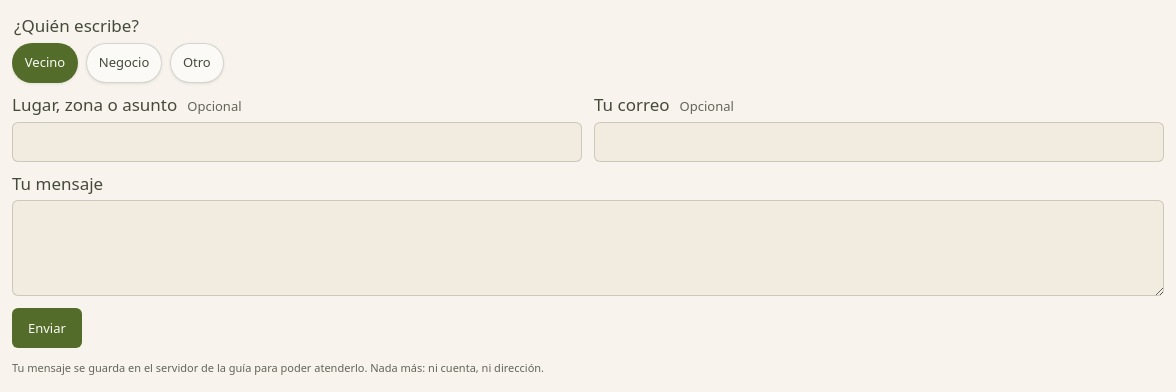
Test: SuggestForm › si el servidor falla, lo dice y no finge que se envió
Type "Hola" into the text box labelled "Tu mensaje" at (588, 248), box [12,200,1164,296]
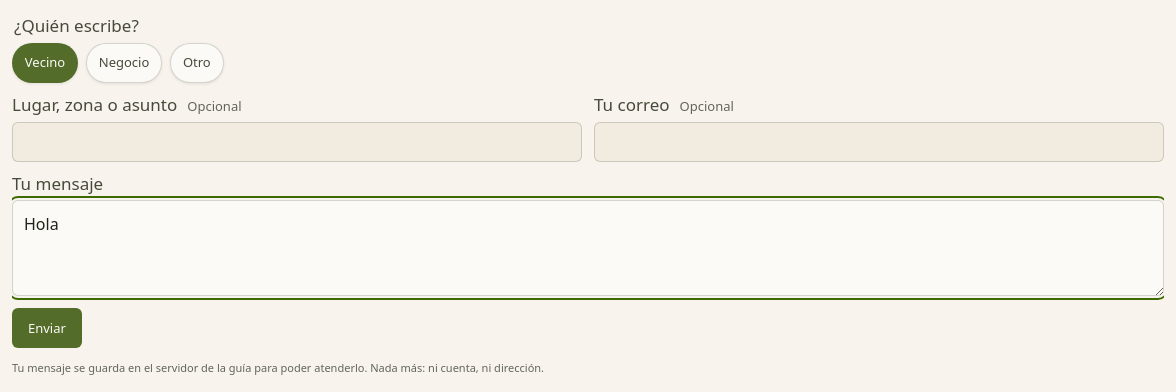
Click the button "Enviar" at (47, 328), box [12,308,82,348]
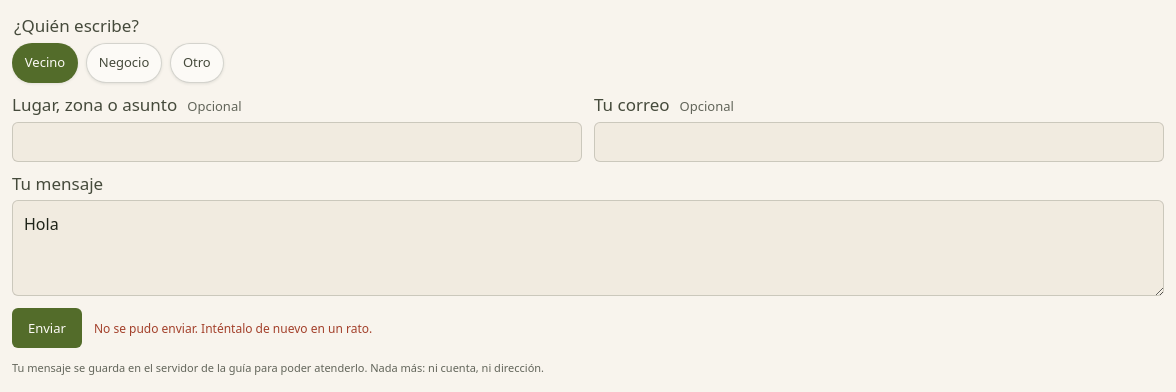
Now the message "No se pudo enviar. Inténtalo de nuevo en un rato." is shown, box [94,320,372,337]
